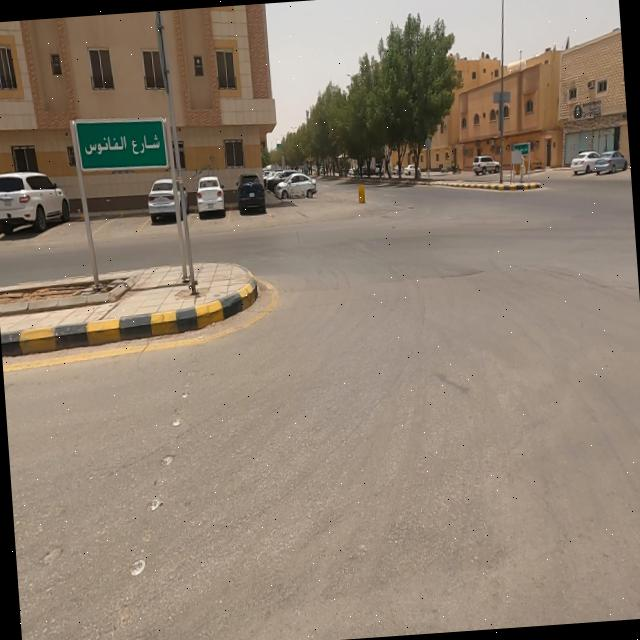Graffiti: (189, 155, 220, 180)
